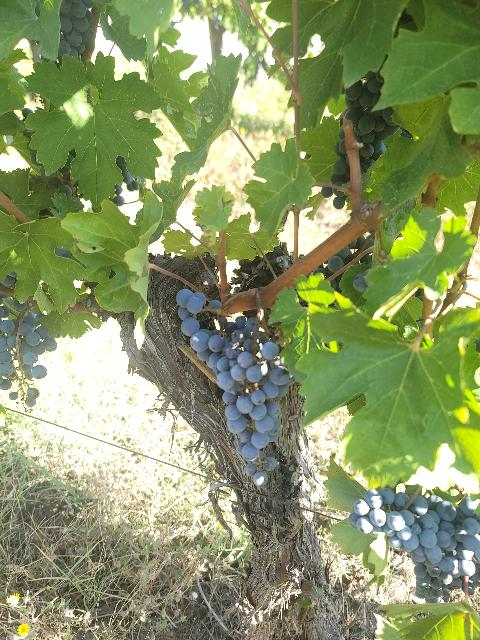grapes: (349, 488, 480, 602), (216, 339, 291, 486), (176, 289, 236, 372), (0, 305, 46, 408)
